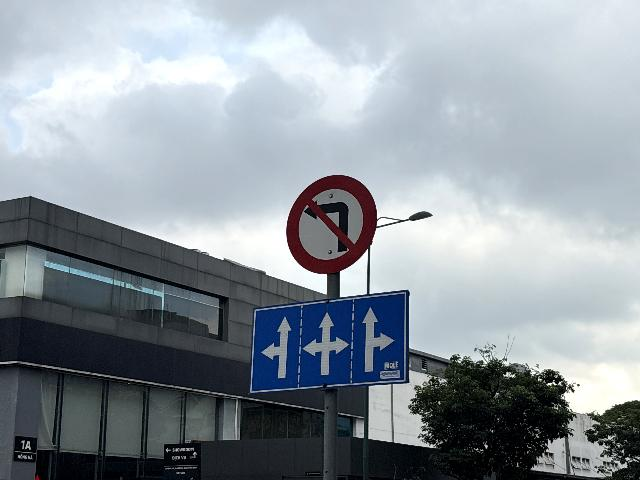cam-re-trai: (286, 175, 378, 275)
